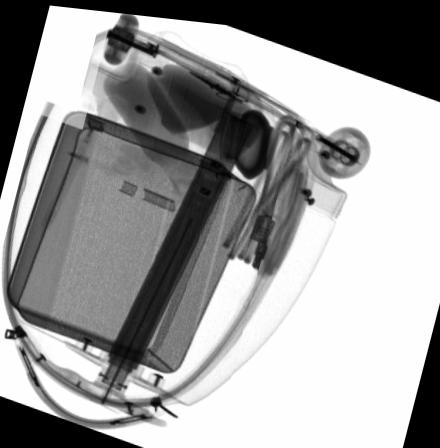Scissors: (189, 67, 248, 98)
